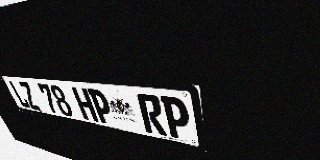7: (36, 83, 62, 115)
8: (48, 85, 75, 117)
H: (71, 87, 99, 122)
L: (8, 80, 31, 109)
P: (160, 96, 192, 141), (87, 88, 116, 126)
R: (136, 93, 167, 136)
Z: (17, 81, 42, 111)
